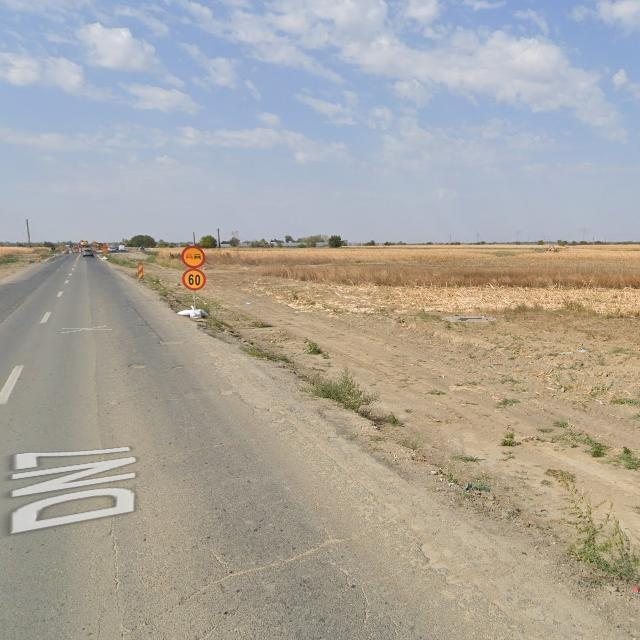forb_overtake: (182, 245, 206, 268)
forb_speed_over_60: (183, 268, 207, 290)
